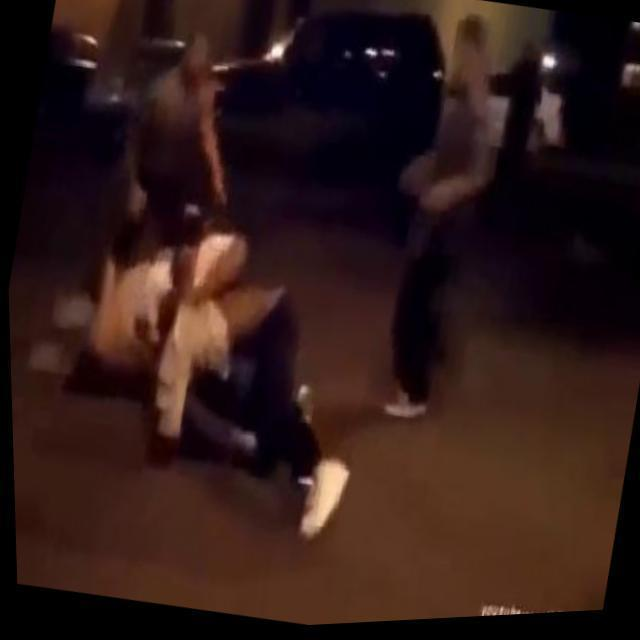fight: (45, 210, 392, 562)
